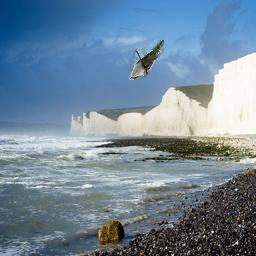Cuckoo: (129, 40, 164, 80)
